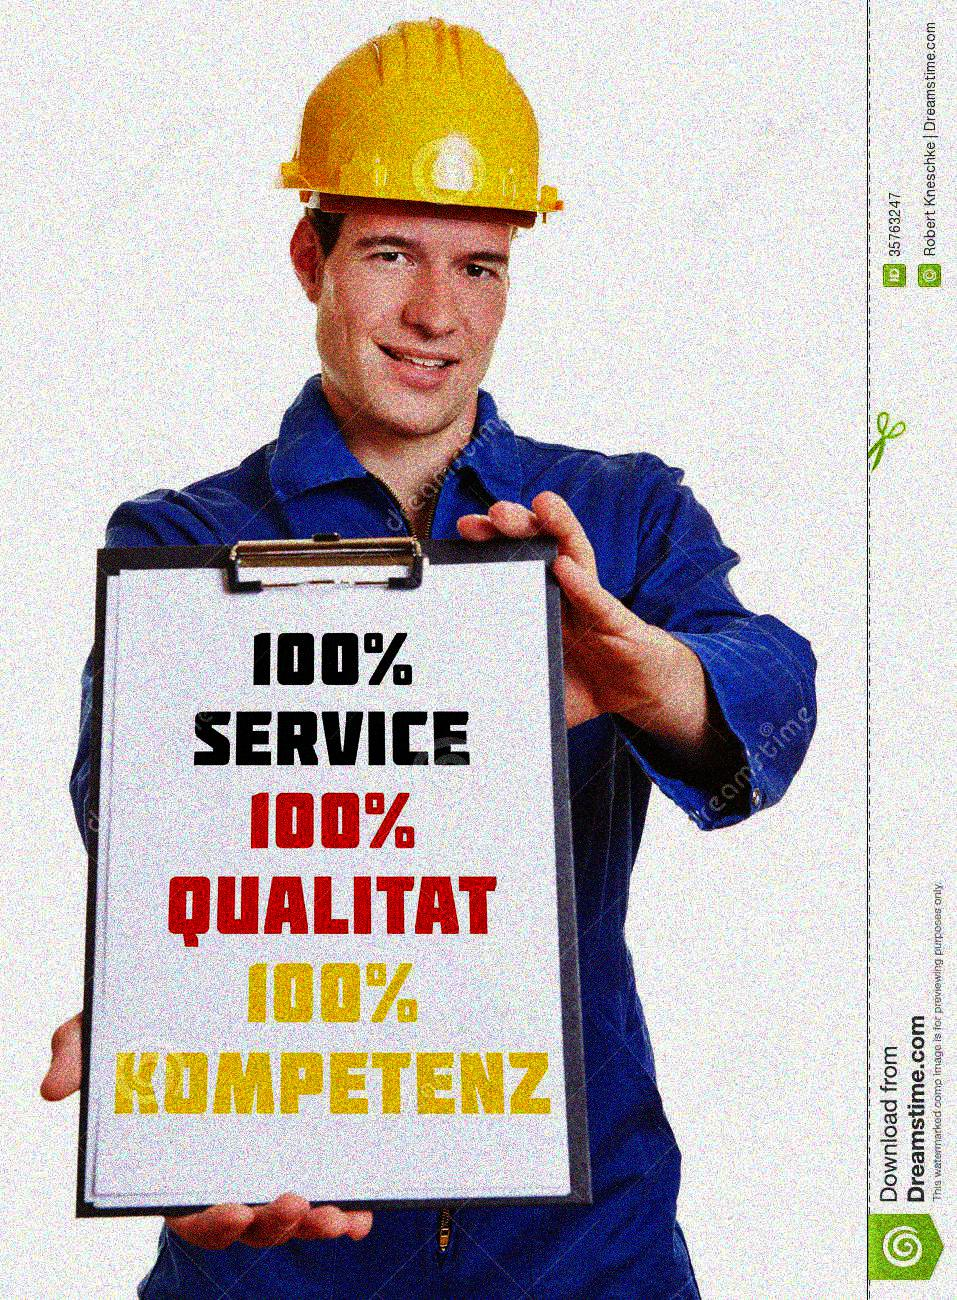helmet: (279, 13, 557, 438)
